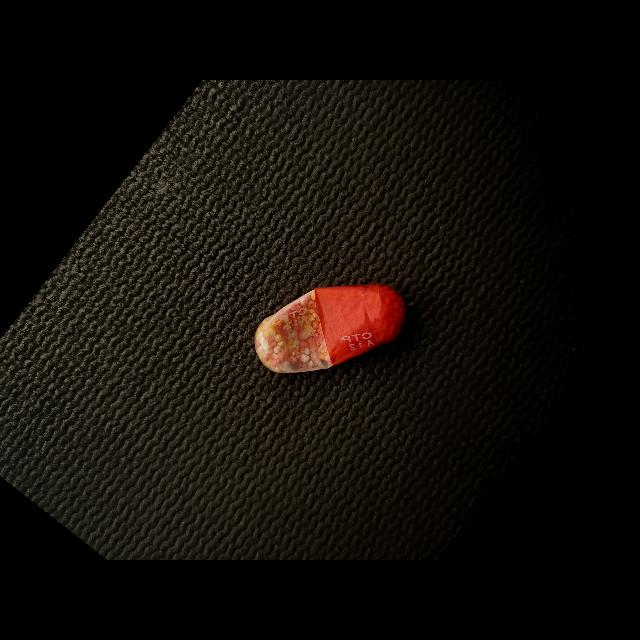Defective Capsule: (254, 283, 406, 373)
